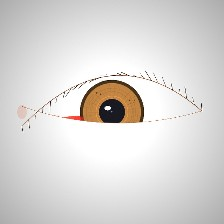hemorrhage_spot: (44, 98, 112, 152)
